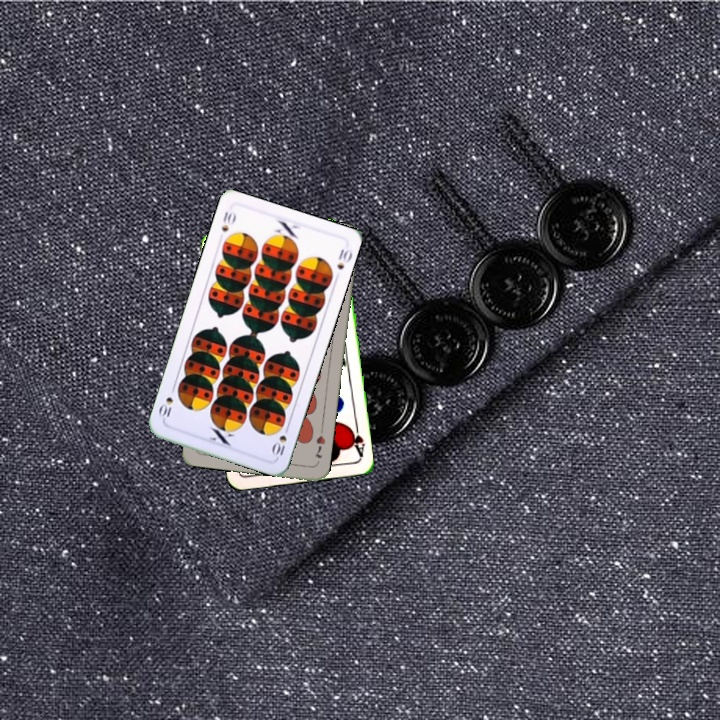H7: (310, 431, 328, 461)
HA: (345, 419, 367, 460)
S10: (268, 421, 292, 458), (217, 207, 239, 234)
